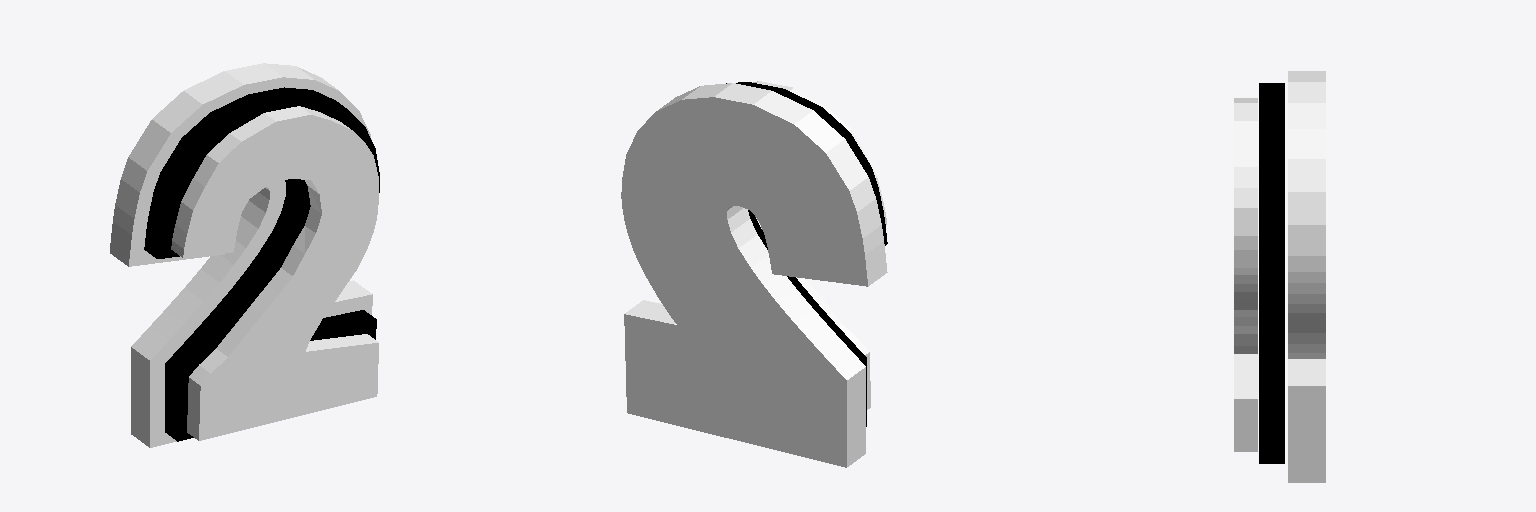
3 renders of one model, left to right at view 1: azimuth 30°, elevation 25°; view 2: azimuth 150°, elevation 25°; view 3: azimuth 270°, elevation 25°, orthographic.
Parts seen in each view (by area): view 1: テキスト.001_テキスト; view 2: テキスト.001_テキスト; view 3: テキスト.001_テキスト.
Part boxes in pixels (x1,y1,x2,y2): テキスト.001_テキスト: (110, 63, 379, 447); テキスト.001_テキスト: (621, 81, 887, 467); テキスト.001_テキスト: (1234, 71, 1325, 482).
Size of the model in its own units: 0.5538 by 0.7296 by 0.1797.
Materials: 1 (1 with a texture image).